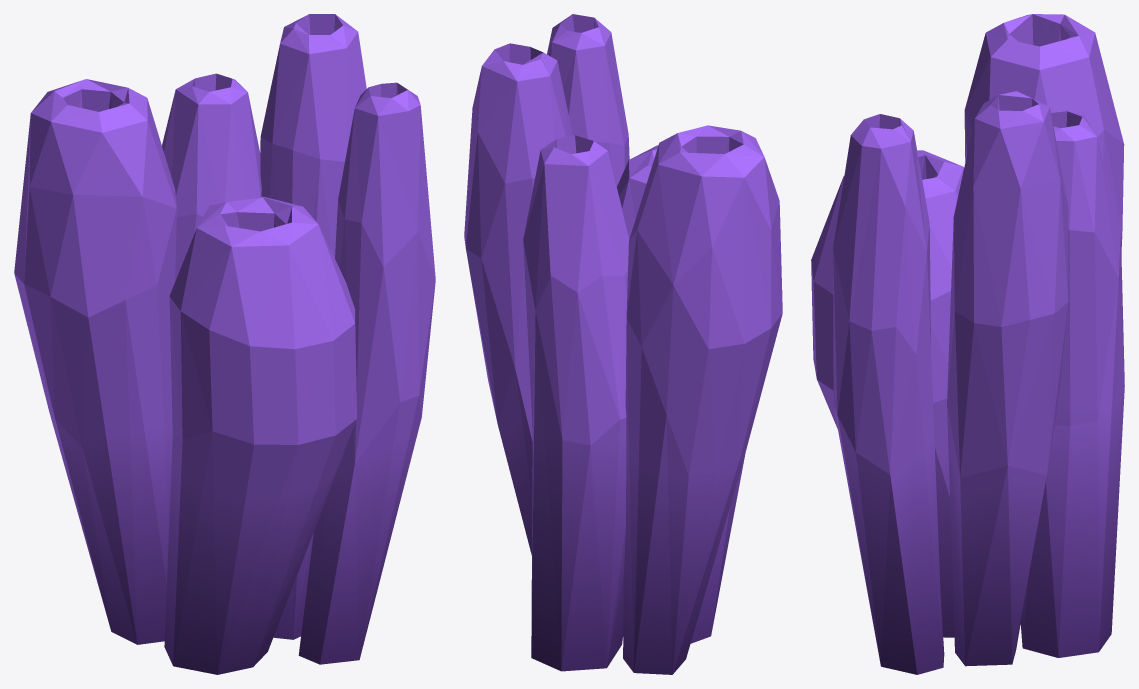
Rendered from SM_Spongia_5.fbx.
The picture shows the model from 3 angles, left to right: view 1: azimuth 30°, elevation 25°; view 2: azimuth 150°, elevation 25°; view 3: azimuth 270°, elevation 25°; orthographic projection. The views are drawn at different scales.
Visible parts, largest first — view 1: Spongia_5; view 2: Spongia_5; view 3: Spongia_5.
Boxes of the visible parts, x1=… form: Spongia_5: x1=14, y1=14, x2=435, y2=674; Spongia_5: x1=464, y1=14, x2=782, y2=674; Spongia_5: x1=811, y1=14, x2=1124, y2=674.
Size of the model in its own units: 68.56 by 116 by 57.01.
